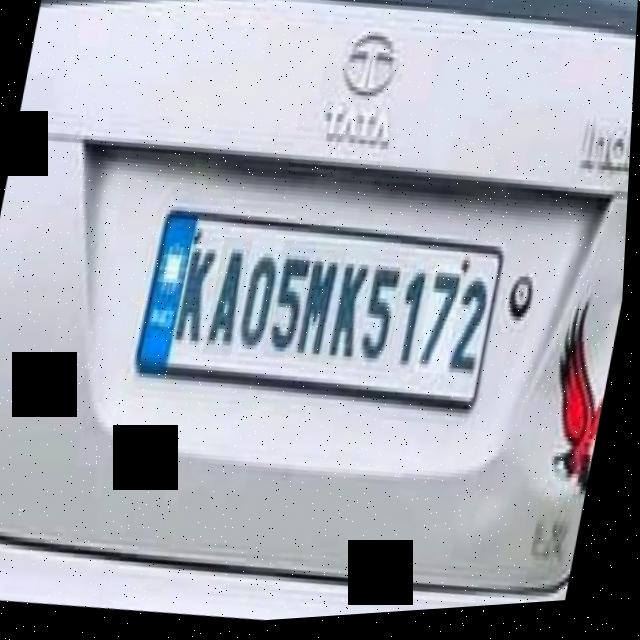0: (235, 250, 286, 356)
1: (391, 269, 435, 376)
5: (358, 250, 413, 380), (267, 243, 321, 365)
7: (419, 268, 469, 384)
A: (206, 240, 256, 363)
K: (327, 253, 380, 375), (175, 238, 226, 358)
M: (297, 247, 350, 370)
